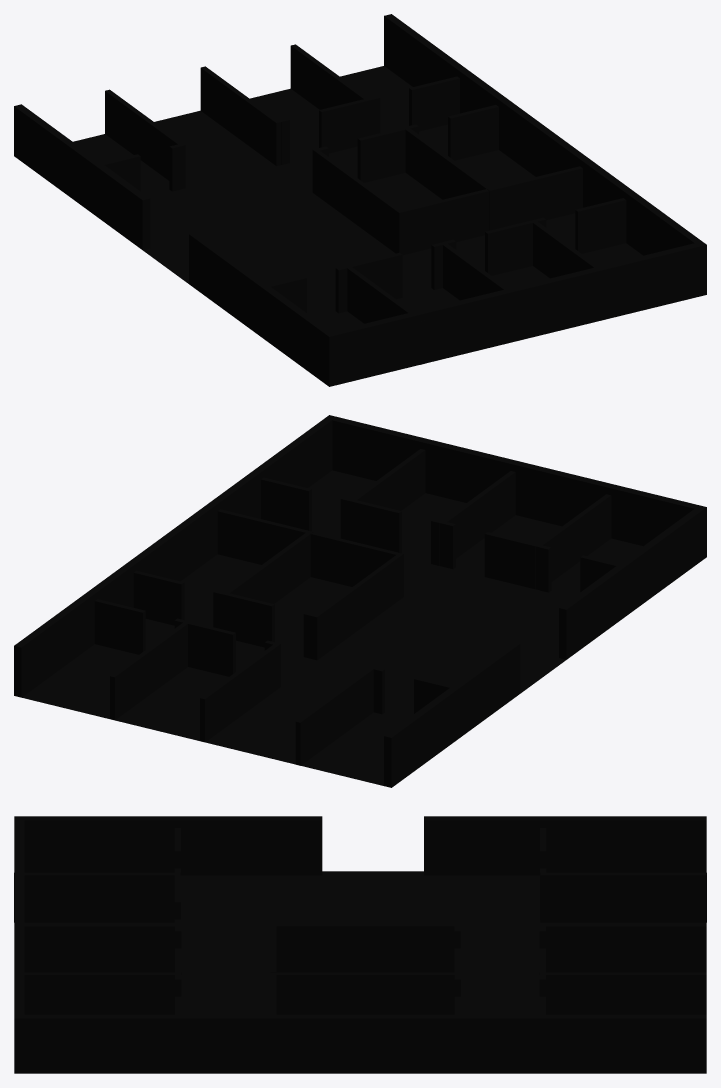
File: Map_1 (2).fbx
3 views of the same model, one above another, from view 1: azimuth 30°, elevation 25°; view 2: azimuth 150°, elevation 25°; view 3: azimuth 270°, elevation 25° (orthographic). The views are drawn at different scales.
Visible parts, largest first — view 1: Map_1; view 2: Map_1; view 3: Map_1.
Boxes of the visible parts, left/top/right/bottom form: Map_1: left=14, top=14, right=706, bottom=386; Map_1: left=14, top=415, right=706, bottom=787; Map_1: left=14, top=816, right=706, bottom=1073.
Bounding box in the file's own units: 3148 × 398 × 4557.
